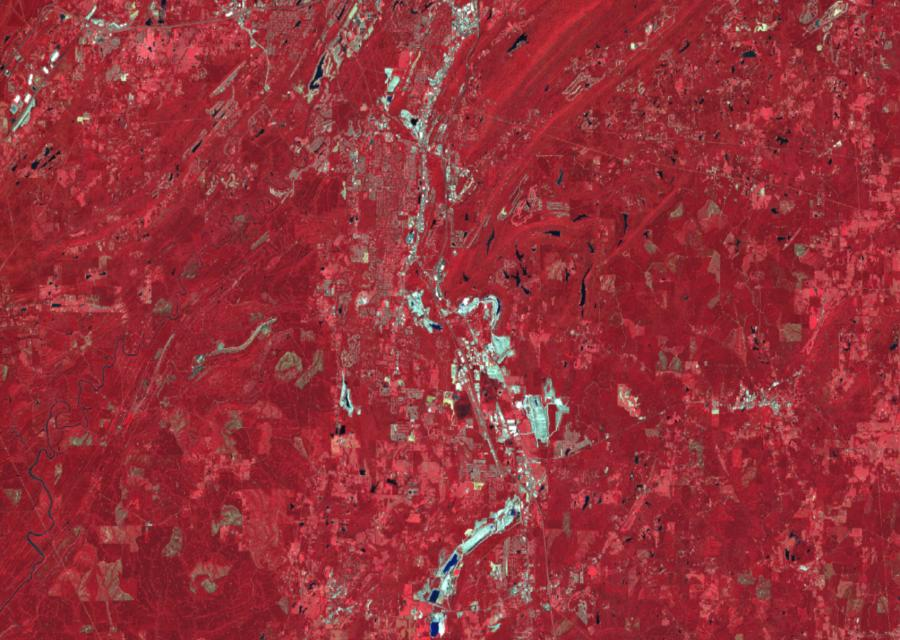Potential Lime Manufacturing Facility: (429, 490, 520, 640), (459, 293, 511, 387), (523, 386, 552, 446)
